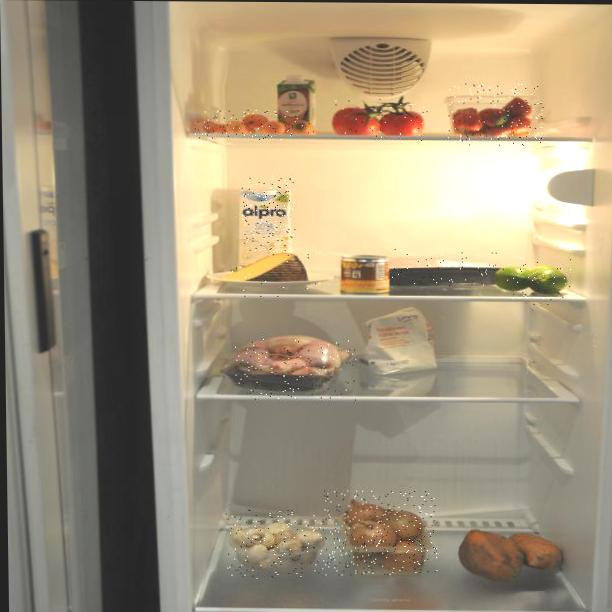carrots: (195, 109, 314, 140)
cheese: (229, 251, 321, 300)
chicken: (235, 339, 357, 401)
lime: (500, 257, 572, 305)
meat: (392, 249, 502, 287)
milk: (242, 178, 297, 257)
mushroom: (226, 510, 327, 580)
onion: (324, 490, 437, 576)
strawberry: (447, 83, 544, 146)
tomatoes: (333, 97, 429, 144)
